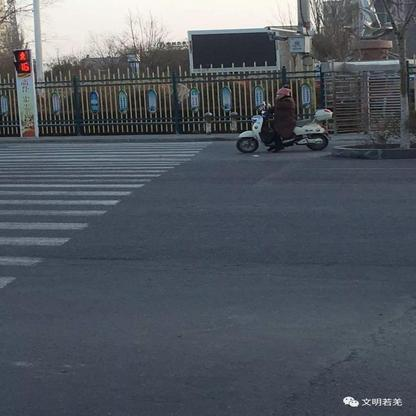target: (235, 83, 333, 157)
